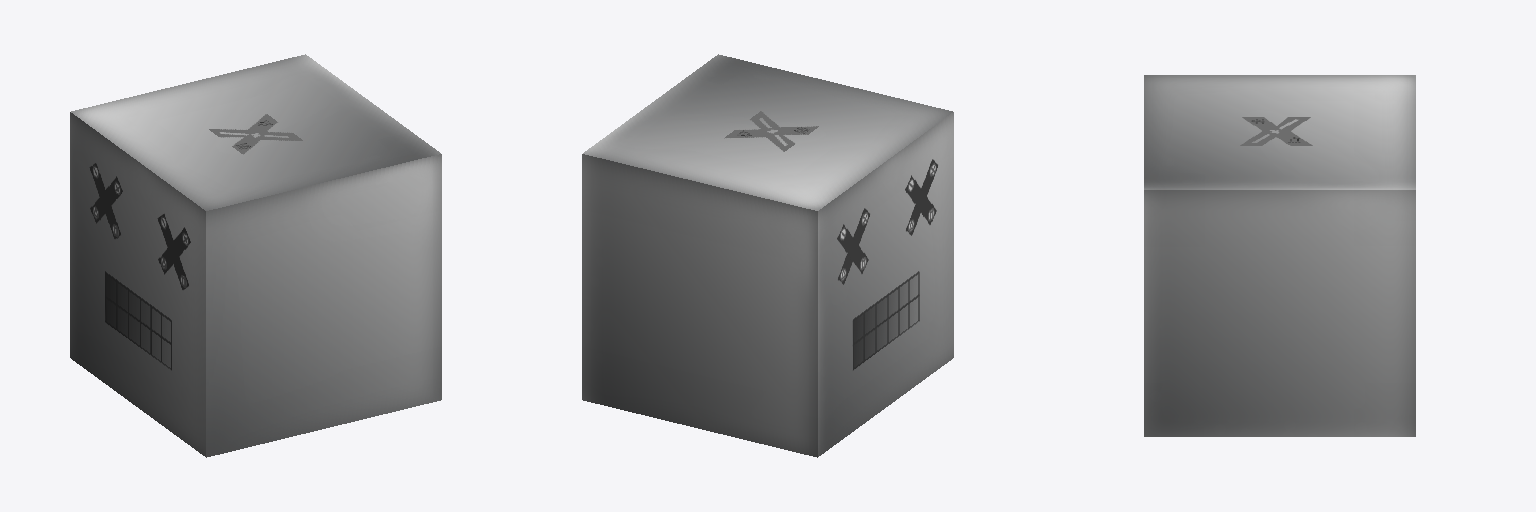
3 views of the same model, side by side, from view 1: azimuth 30°, elevation 25°; view 2: azimuth 150°, elevation 25°; view 3: azimuth 270°, elevation 25° (orthographic).
Visible parts, largest first — view 1: Cube; view 2: Cube; view 3: Cube.
Part boxes in pixels (bbox=[...]): Cube: bbox=[70, 54, 441, 457]; Cube: bbox=[582, 54, 953, 457]; Cube: bbox=[1144, 75, 1415, 436].
Bounding box in the file's own units: 2 × 2 × 2.
Materials: 1 (1 with a texture image).